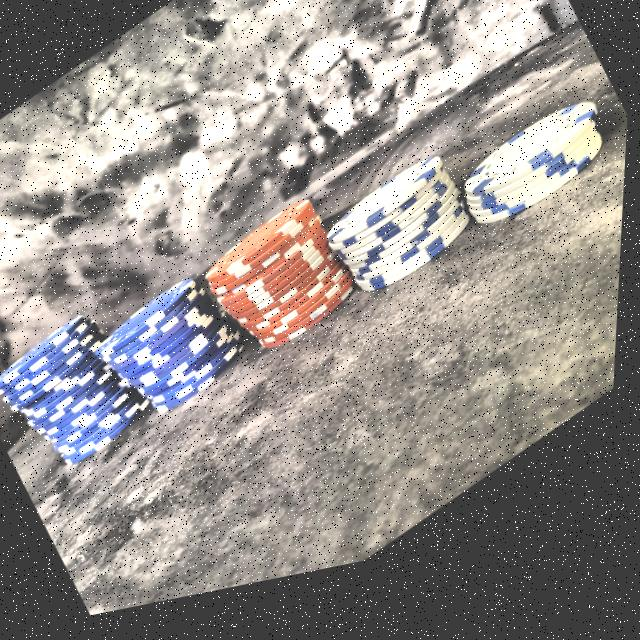Chip: (184, 174, 376, 402), (0, 286, 165, 509), (89, 255, 266, 450), (438, 95, 621, 279), (314, 146, 487, 339)
